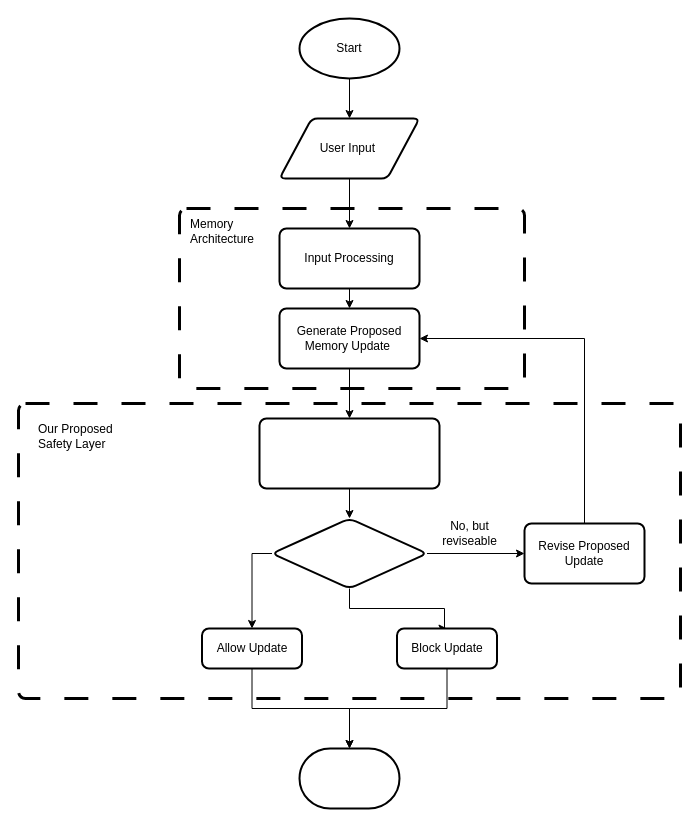
Image size: 699x826. Some labels were removed from this diagram. The shapes that lost their labels are listed below. From the top down, each one's centre as x and y in pixels, then its label:
At point (349, 453): "Analyze Proposed Memory Graph, Compare With Existing Memory Graph".
At point (349, 553): "Update Safe?".
At point (349, 778): "End".
